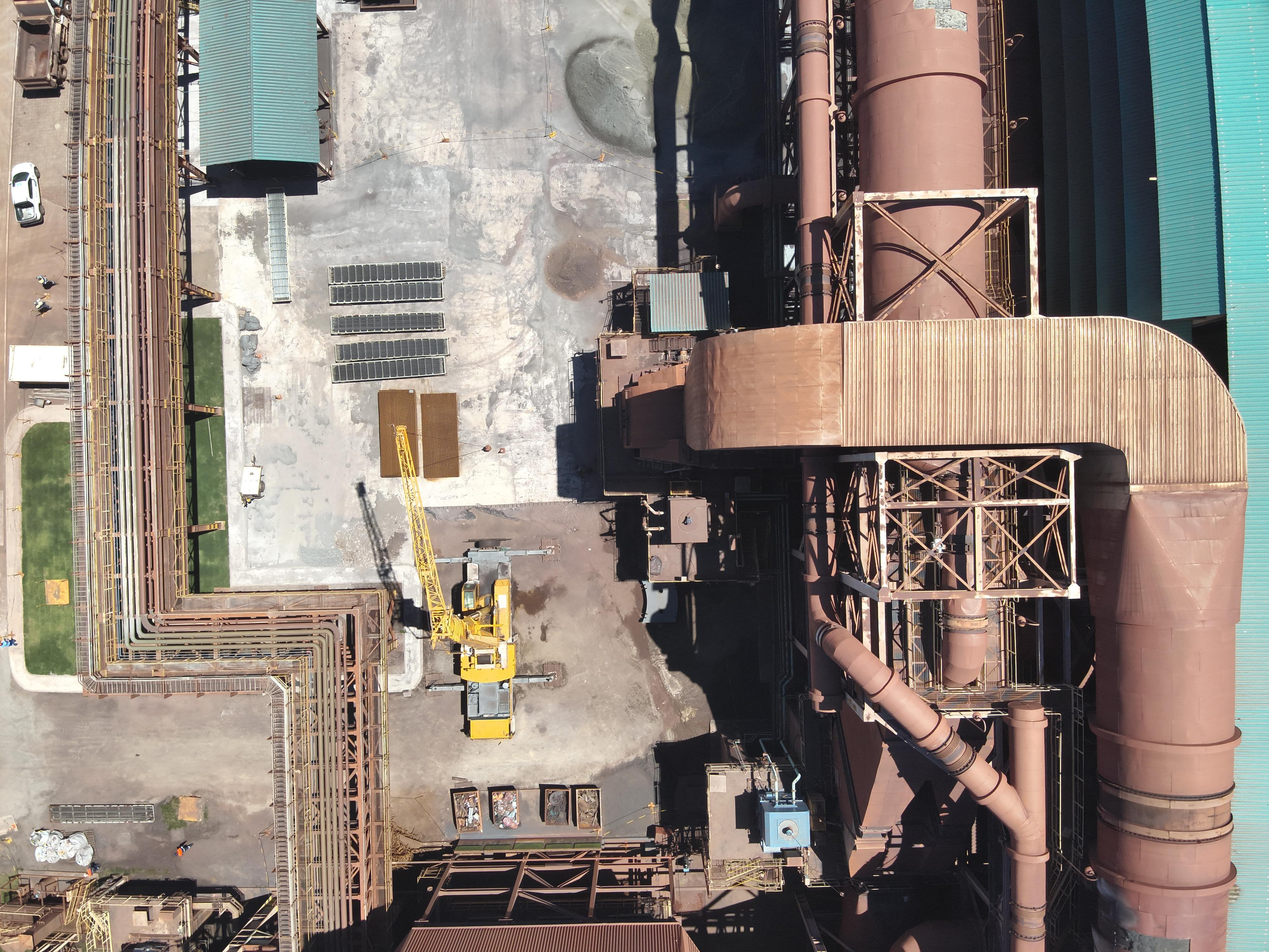Failures: (1084, 908, 1151, 937), (1074, 937, 1196, 952), (912, 0, 969, 32)
